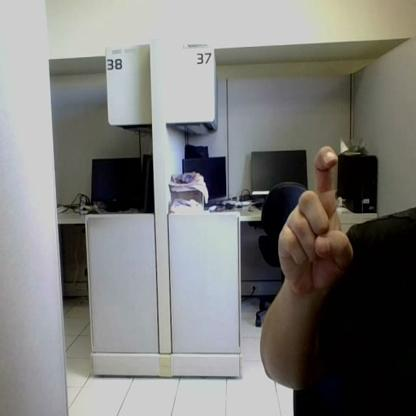X: (279, 146, 352, 291)
